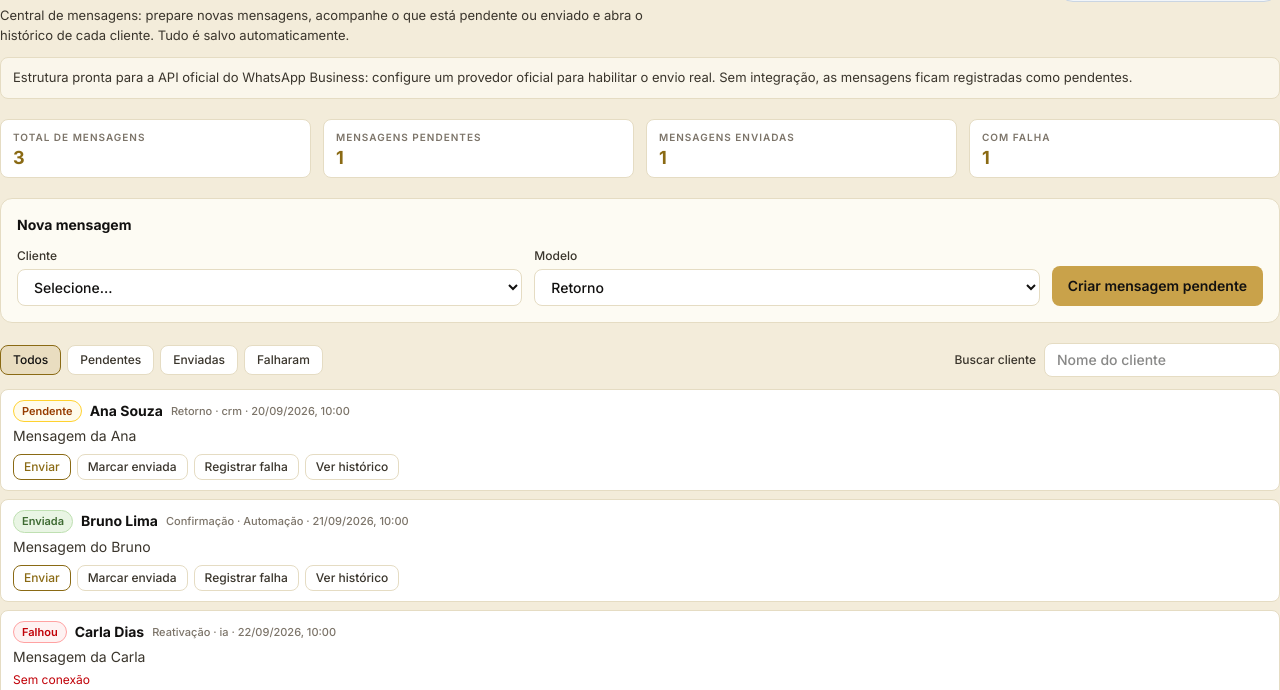
Test: Central de WhatsApp — pendentes, enviadas, falhas e filtros › ações: Enviar avisa que não há integração, Marcar enviada e Registrar falha
The width and height of the screenshot is (1280, 690).
# Enviar sem provedor: aviso claro e status permanece pendente
Click the button "Enviar" below "Ana Souza". click: (42, 467)
box: [13, 454, 71, 480]
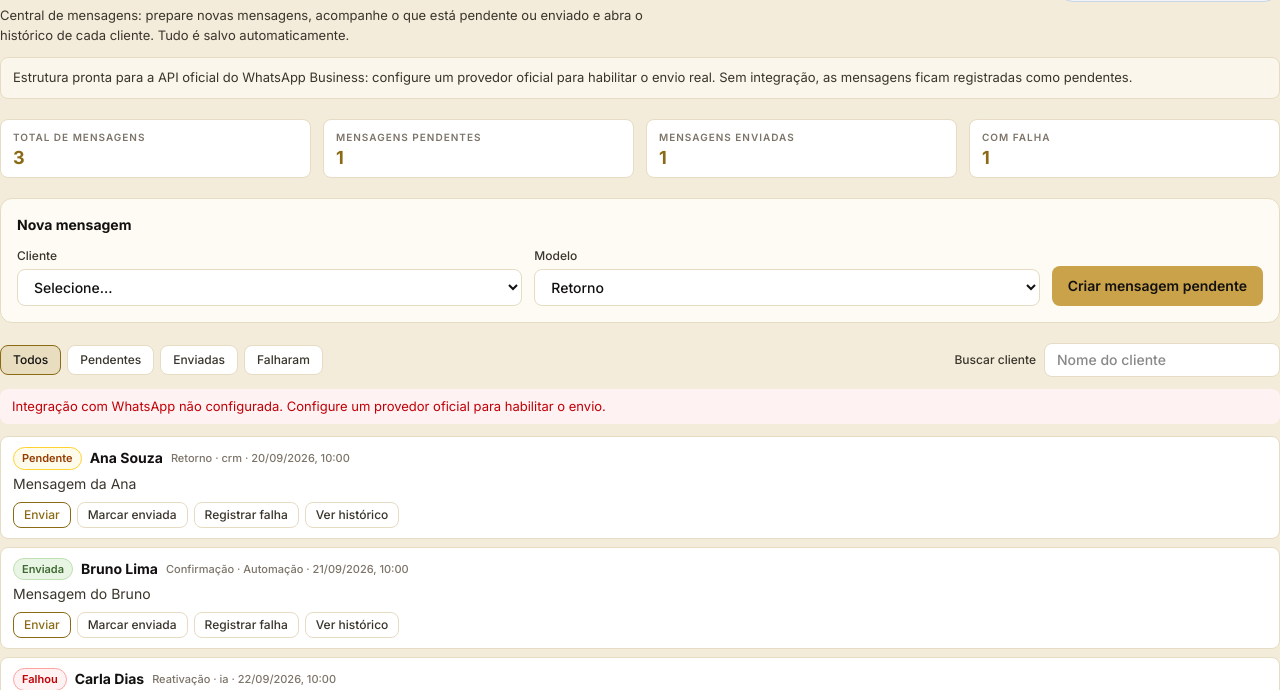
Now the text "não configurada" is shown, box [12, 398, 606, 414]
# Marcar enviada manualmente (ex.: WhatsApp Web)
Click the button "Marcar enviada" below "Ana Souza". click: (132, 514)
box: [77, 502, 188, 528]
(page scrolled)
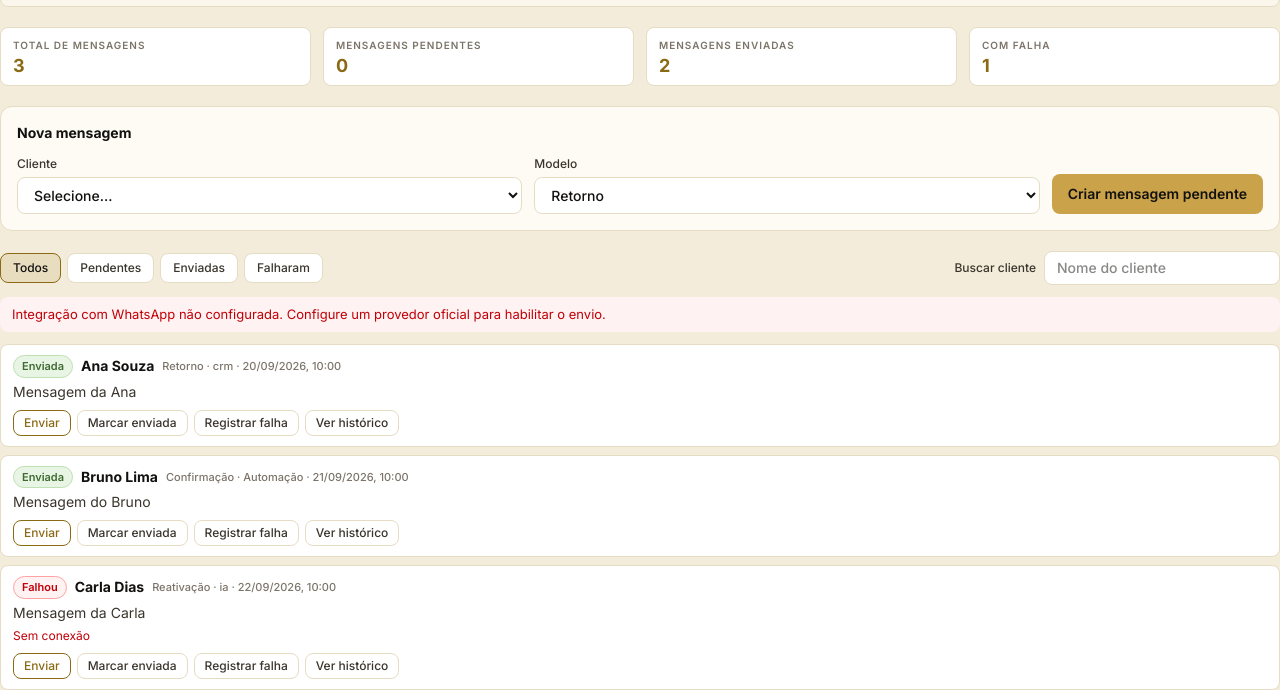
Now the text "Enviada" next to "Ana Souza" is shown, box [22, 359, 64, 373]
# Registrar falha com motivo obrigatório
Click the button "Registrar falha" below "Falhou". click: (246, 666)
box: [194, 652, 299, 678]
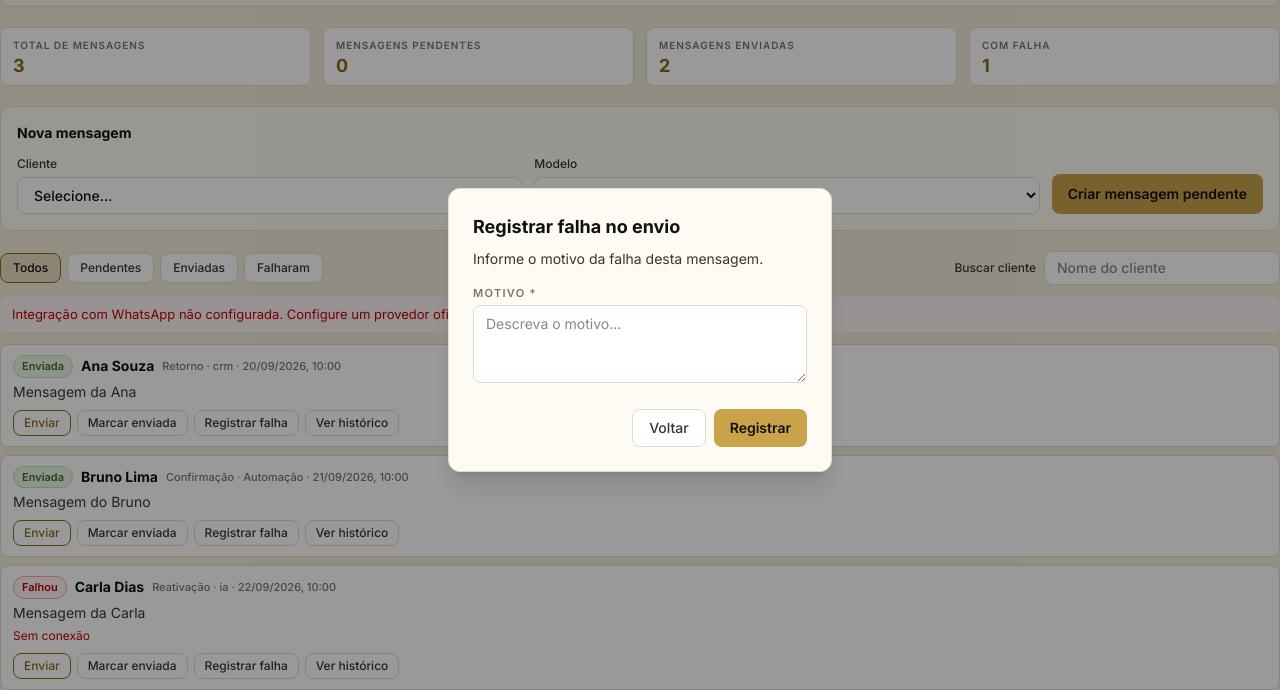
Now the heading "Registrar falha no envio" is shown, box [473, 216, 680, 237]
Click the button "Registrar". click: (760, 428)
box: [714, 409, 807, 447]
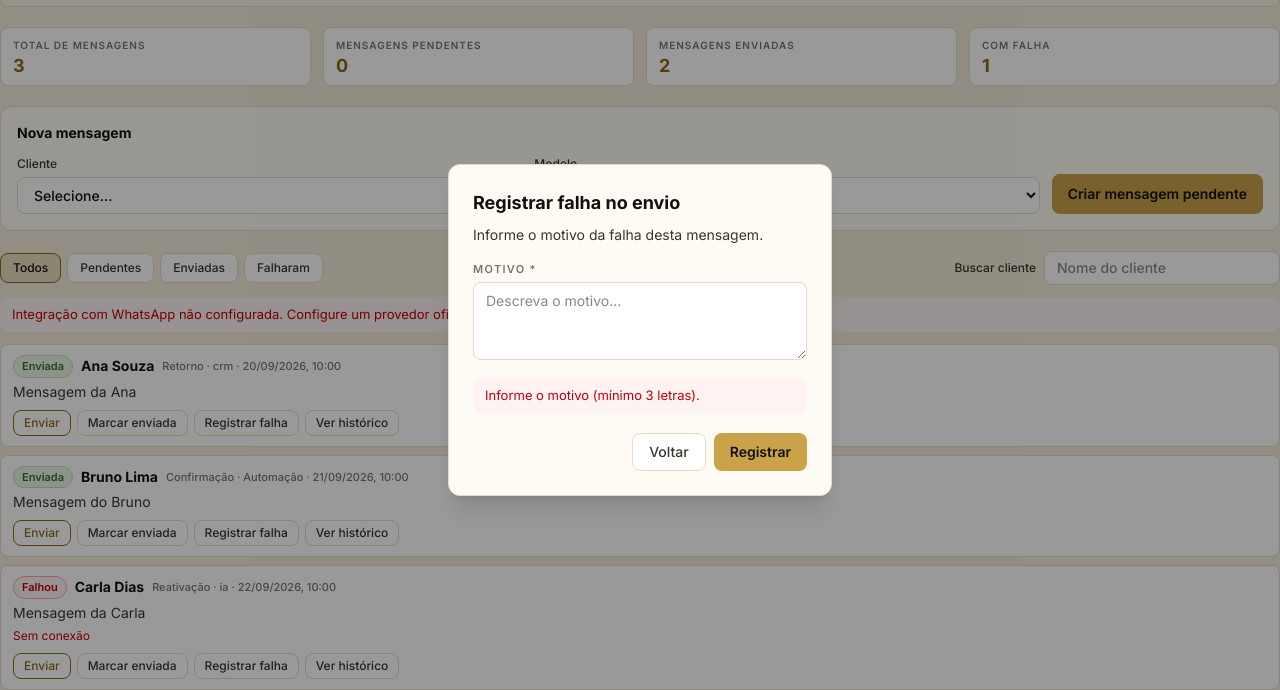
Now the text "Informe o motivo (mínimo 3 letras)." is shown, box [473, 378, 807, 413]
Type "Número inválido" into the text box labelled "Motivo *". click: (640, 320)
box: [473, 282, 807, 360]
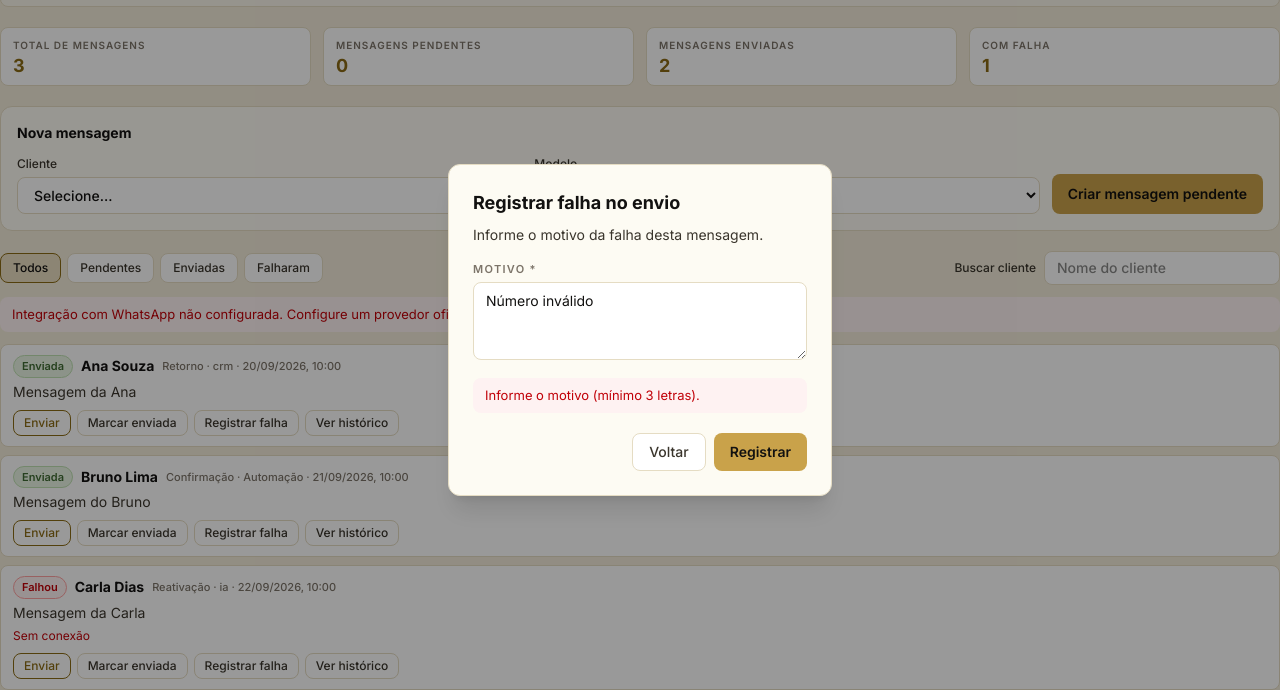
Click the button "Registrar". click: (760, 452)
box: [714, 433, 807, 471]
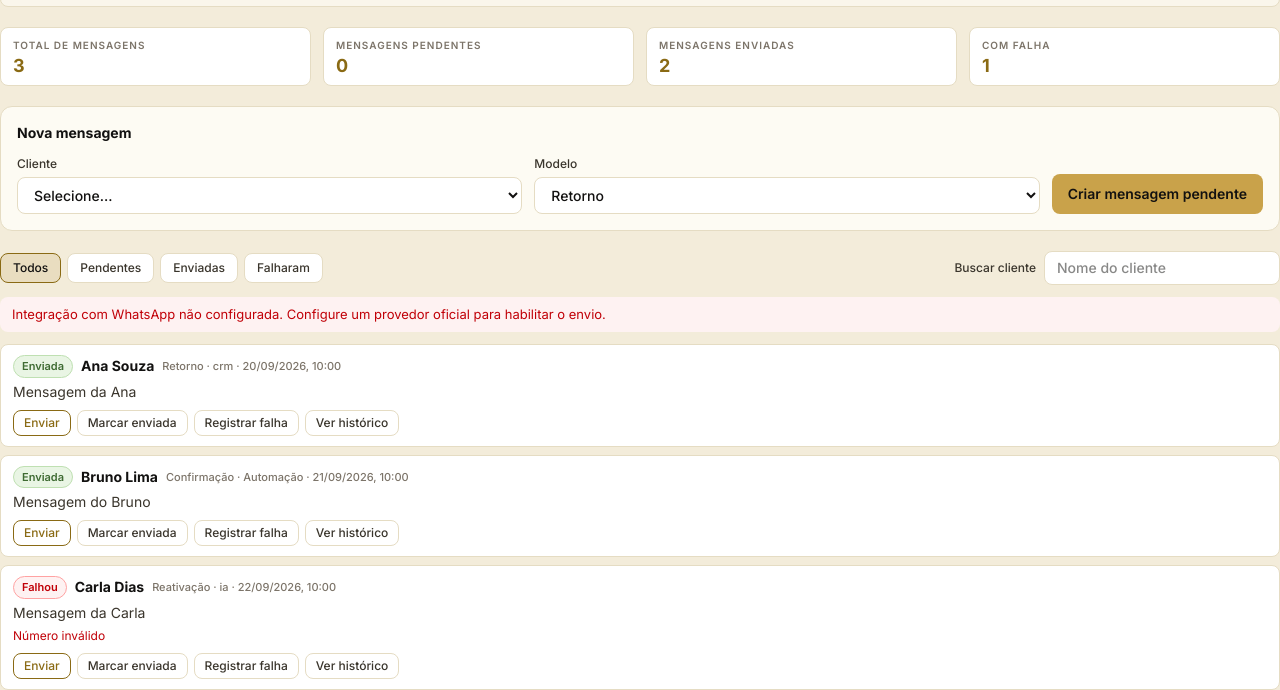
Expected: the text "Falhou" is shown once, [13, 576, 67, 598]
Now the text "Número inválido" is shown, box [13, 628, 105, 642]
